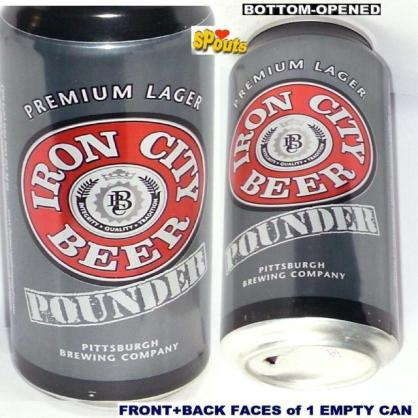can: (1, 0, 215, 408), (221, 17, 402, 392)
